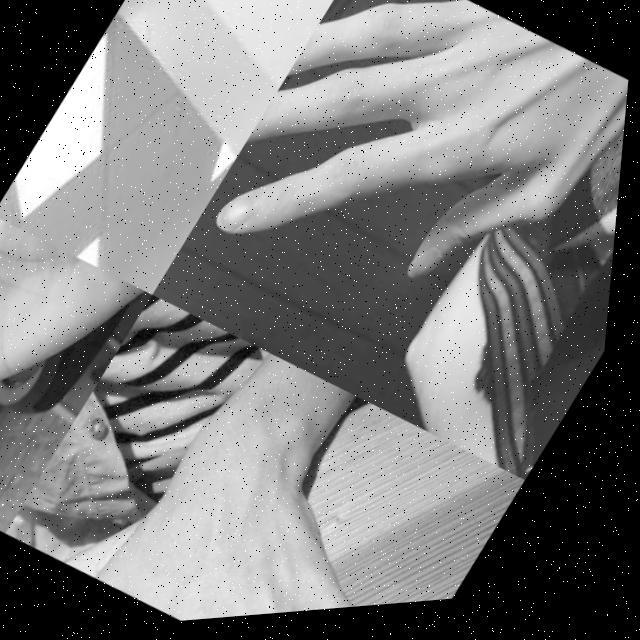no-gloves: (189, 0, 640, 415), (86, 342, 530, 632), (0, 203, 165, 525)
